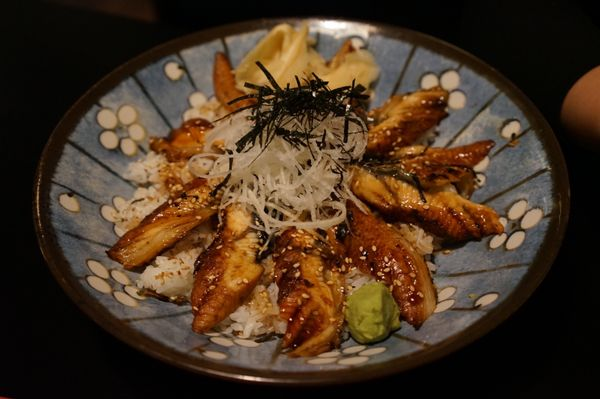curry: (20, 17, 590, 387)
